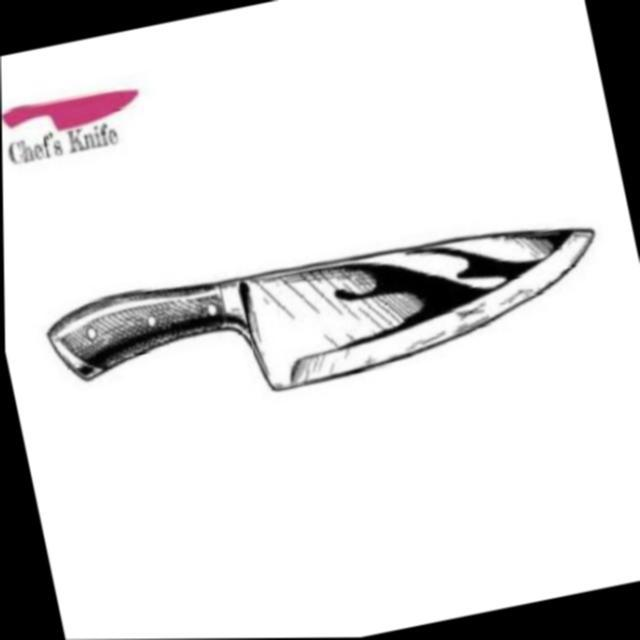weapon: (37, 197, 614, 433)
